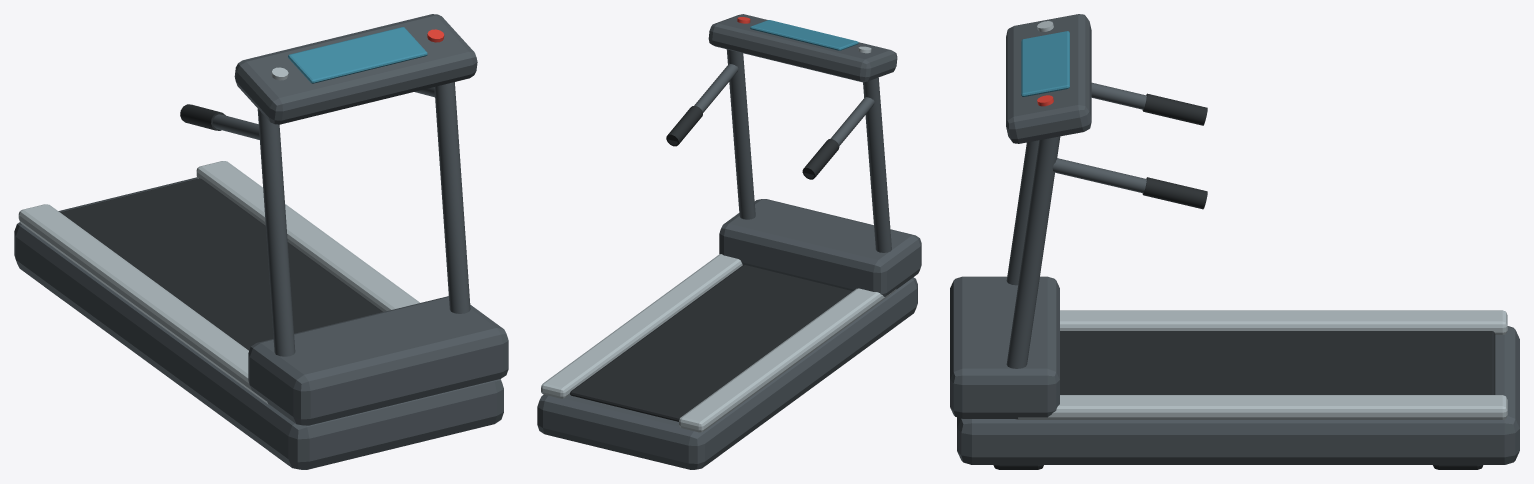
The model's file is treadmill.glb.
3 views of the same model, side by side, from view 1: azimuth 30°, elevation 25°; view 2: azimuth 150°, elevation 25°; view 3: azimuth 270°, elevation 25° (orthographic). The views are drawn at different scales.
Visible parts, largest first — view 1: Treadmill running belt, Treadmill deck chassis, Treadmill front motor cover, Treadmill console housing, Treadmill side foot rail, Treadmill side foot rail.001, Treadmill console upright, Treadmill console upright.001, Treadmill console screen, Treadmill side handrail, Treadmill rubber handgrip; view 2: Treadmill running belt, Treadmill deck chassis, Treadmill front motor cover, Treadmill side foot rail, Treadmill console housing, Treadmill side foot rail.001, Treadmill console upright, Treadmill console upright.001, Treadmill console screen, Treadmill side handrail.001, Treadmill side handrail, Treadmill rubber handgrip (+1 smaller); view 3: Treadmill running belt, Treadmill deck chassis, Treadmill front motor cover, Treadmill side foot rail.001, Treadmill side foot rail, Treadmill console housing, Treadmill console upright.001, Treadmill console screen, Treadmill console upright, Treadmill side handrail.001, Treadmill rubber handgrip.001, Treadmill rubber handgrip (+1 smaller).
Part boxes in pixels (x1=…): Treadmill running belt: x1=60, y1=178, x2=382, y2=350; Treadmill deck chassis: x1=14, y1=177, x2=503, y2=469; Treadmill front motor cover: x1=248, y1=296, x2=508, y2=425; Treadmill console housing: x1=234, y1=14, x2=477, y2=124; Treadmill side foot rail: x1=18, y1=204, x2=269, y2=404; Treadmill side foot rail.001: x1=196, y1=161, x2=420, y2=311; Treadmill console upright: x1=257, y1=109, x2=295, y2=356; Treadmill console upright.001: x1=434, y1=82, x2=470, y2=313; Treadmill console screen: x1=288, y1=27, x2=427, y2=83; Treadmill side handrail: x1=212, y1=114, x2=259, y2=139; Treadmill rubber handgrip: x1=180, y1=104, x2=225, y2=130; Treadmill running belt: x1=570, y1=265, x2=852, y2=421; Treadmill deck chassis: x1=537, y1=277, x2=917, y2=469; Treadmill front motor cover: x1=719, y1=199, x2=921, y2=296; Treadmill side foot rail: x1=679, y1=288, x2=896, y2=432; Treadmill console housing: x1=708, y1=14, x2=897, y2=82; Treadmill side foot rail.001: x1=541, y1=254, x2=742, y2=398; Treadmill console upright: x1=863, y1=77, x2=891, y2=252; Treadmill console upright.001: x1=726, y1=49, x2=755, y2=219; Treadmill console screen: x1=750, y1=20, x2=858, y2=50; Treadmill side handrail.001: x1=667, y1=63, x2=738, y2=145; Treadmill side handrail: x1=804, y1=97, x2=874, y2=178; Treadmill rubber handgrip: x1=802, y1=139, x2=839, y2=179; Treadmill running belt: x1=1060, y1=331, x2=1495, y2=394; Treadmill deck chassis: x1=957, y1=326, x2=1519, y2=464; Treadmill front motor cover: x1=950, y1=276, x2=1059, y2=418; Treadmill side foot rail.001: x1=1015, y1=395, x2=1507, y2=419; Treadmill side foot rail: x1=1060, y1=310, x2=1507, y2=334; Treadmill console housing: x1=1006, y1=14, x2=1091, y2=143; Treadmill console upright.001: x1=1006, y1=136, x2=1060, y2=368; Treadmill console screen: x1=1021, y1=31, x2=1069, y2=96; Treadmill console upright: x1=1006, y1=140, x2=1039, y2=285; Treadmill side handrail.001: x1=1052, y1=158, x2=1146, y2=193; Treadmill rubber handgrip.001: x1=1142, y1=177, x2=1207, y2=209; Treadmill rubber handgrip: x1=1142, y1=93, x2=1207, y2=125.
Size of the model in its own units: 0.88 by 1.48 by 2.08.
